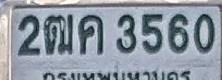0: (194, 12, 214, 52)
2: (18, 14, 40, 54)
3: (116, 13, 136, 53)
5: (142, 12, 162, 54)
6: (168, 12, 188, 52)
A04: (78, 14, 103, 54)
A18: (43, 13, 73, 54)
